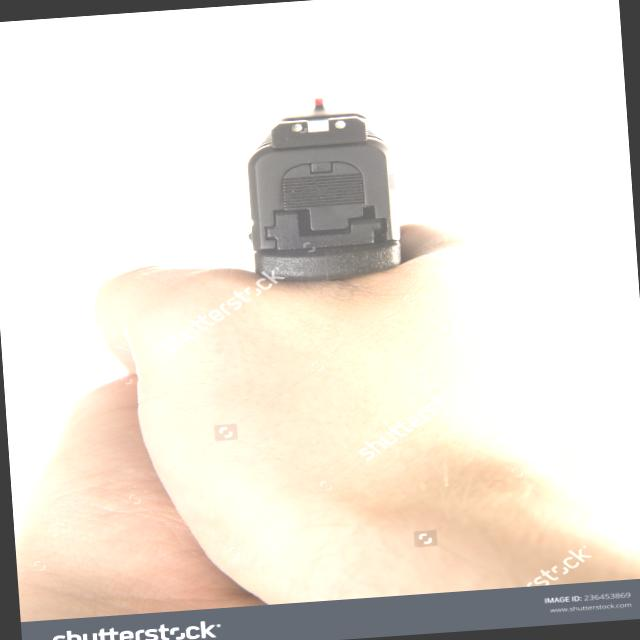handgun: (238, 88, 408, 283)
